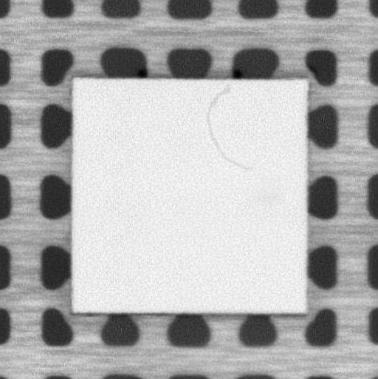DIE_CRACK: (203, 83, 249, 171)
